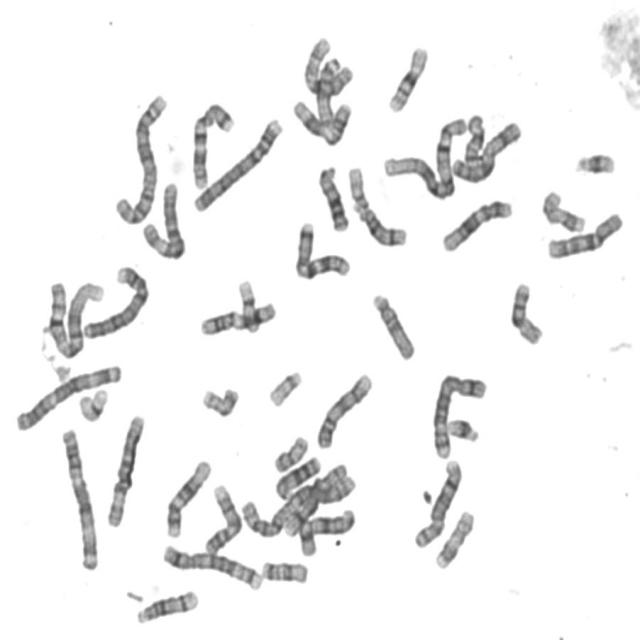A1: (380, 111, 468, 202), (44, 275, 106, 360)
A2: (238, 462, 356, 539), (111, 88, 168, 226)
A3: (12, 358, 124, 433), (57, 423, 101, 572)
B4: (189, 111, 285, 215), (78, 260, 150, 341)
B5: (158, 539, 265, 592), (428, 369, 489, 461)
C10: (543, 206, 625, 261), (300, 32, 354, 99)
C11: (289, 92, 354, 148), (196, 297, 278, 338)
C12: (438, 194, 514, 254), (162, 454, 214, 539)
C6: (101, 409, 147, 530), (138, 175, 186, 261)
C7: (188, 96, 236, 192), (291, 216, 354, 282)
C8: (280, 460, 351, 538), (410, 454, 464, 550)
C9: (312, 368, 375, 451), (200, 479, 243, 557)
D13: (314, 159, 351, 234), (271, 451, 324, 502)
D14: (344, 161, 410, 250), (132, 584, 201, 626)
D15: (368, 287, 417, 363), (312, 51, 342, 127)
E16: (383, 40, 431, 115), (506, 278, 546, 348)
E17: (431, 506, 476, 572), (537, 185, 588, 235)
E18: (460, 108, 487, 168), (258, 556, 310, 585)
F19: (234, 274, 261, 334), (74, 384, 110, 424)
F20: (270, 430, 310, 474), (197, 381, 241, 419)
G21: (570, 147, 618, 177), (444, 413, 481, 447)
G22: (265, 365, 304, 409), (345, 162, 371, 214)
X: (447, 115, 524, 185), (295, 504, 358, 559)
